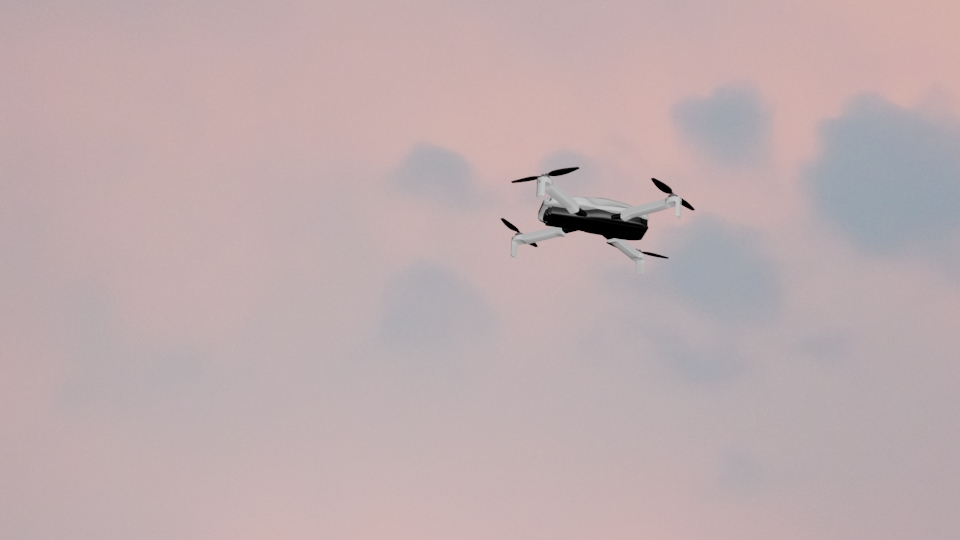drone: (500, 166, 693, 275)
